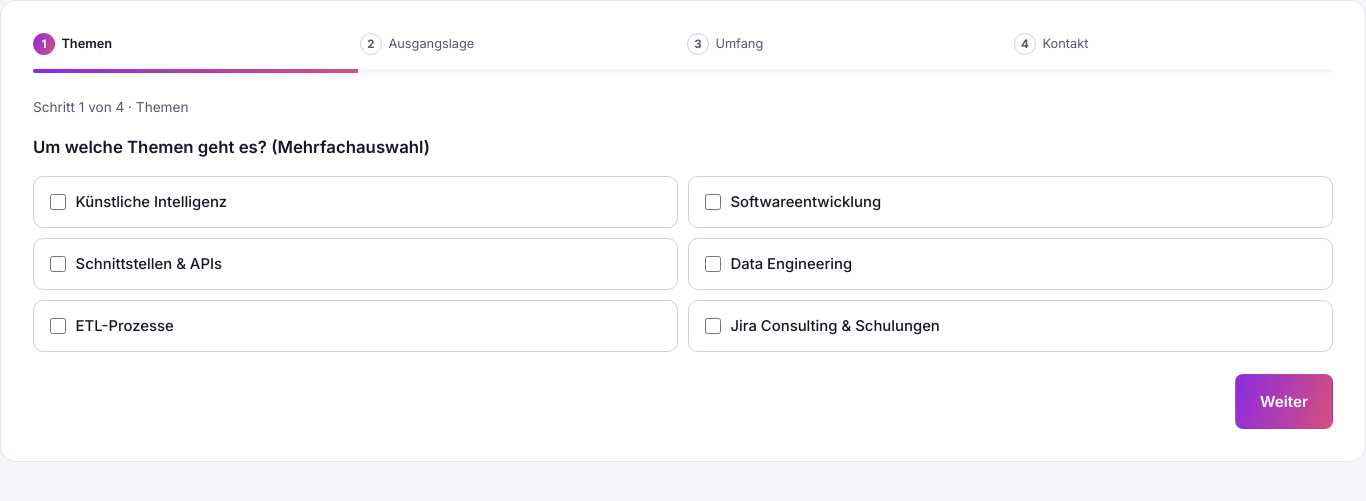
Test: ScopeWizardComponent › blocks advancing without a selected service and shows an error
This screenshot has width=1366, height=501.
Click the submit button at x=1284, y=401, box x1=1235 y1=374 x2=1333 y2=429
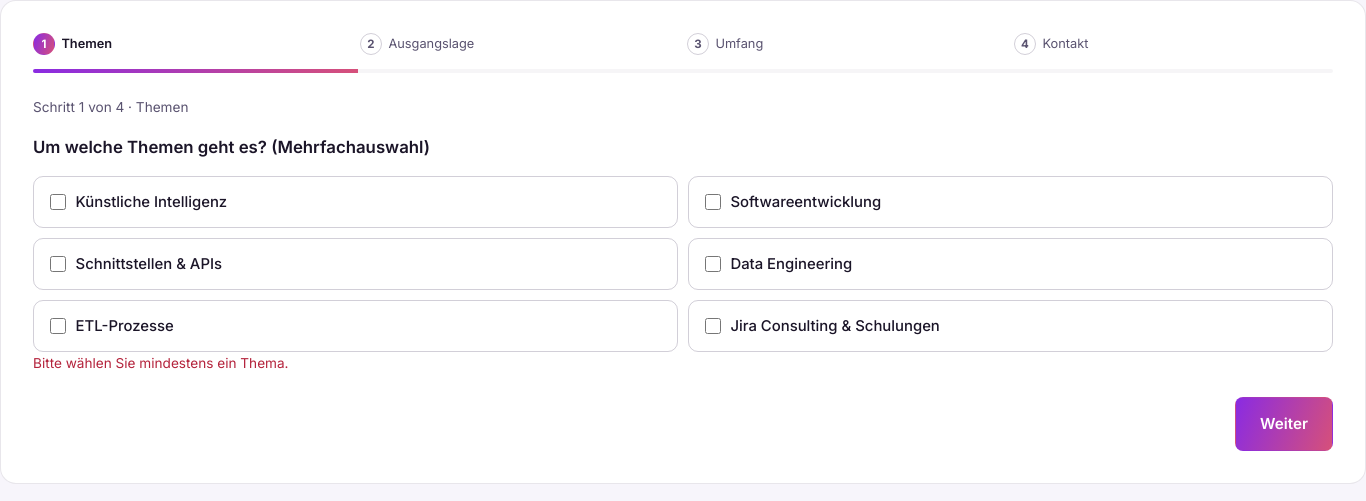
expect the message with class "field__err" reads "Bitte wählen Sie mindestens ein Thema.": met, box x1=33 y1=355 x2=288 y2=371
